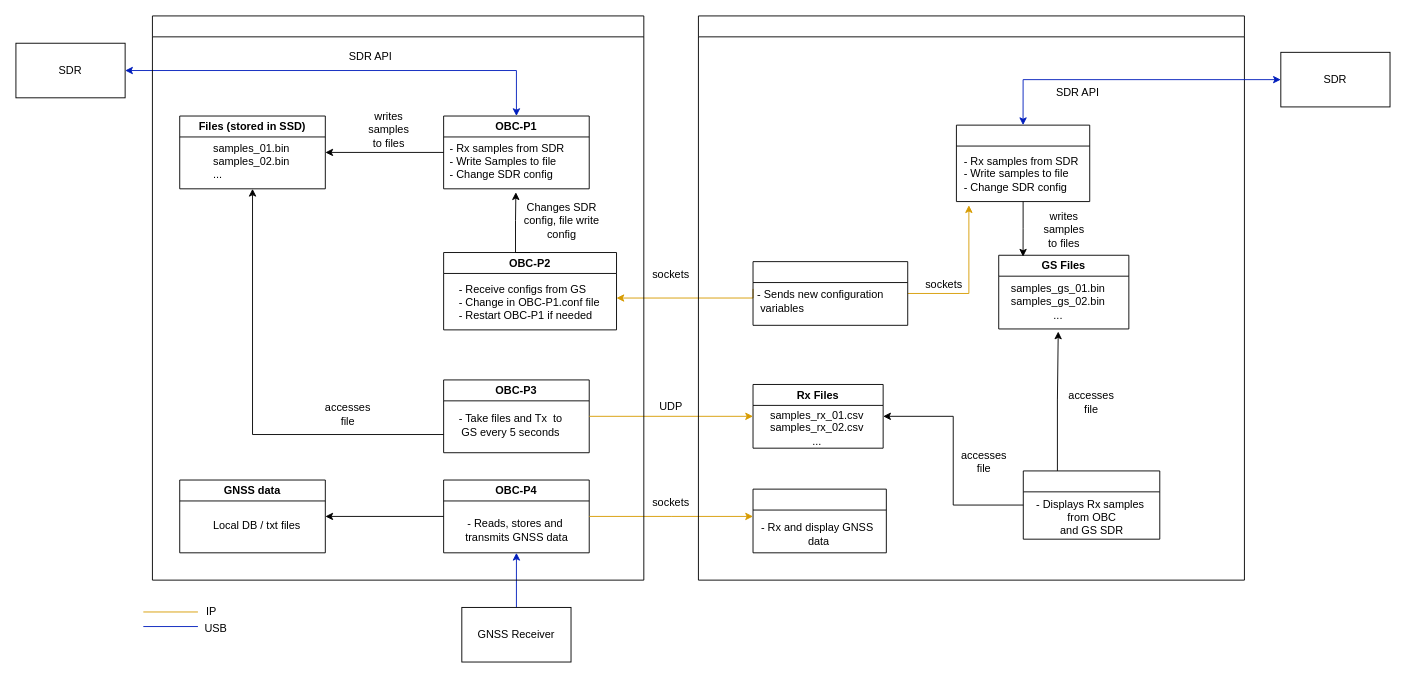
This 1406x678 diagram has some shape labels left out. Each missing label, with the box of its shape:
MCC (Ground Station Laptop with Ubuntu 22.04 LTS): (698, 15, 1244, 580)
MCC-P1: (752, 261, 908, 325)
MCC-P2: (1022, 470, 1160, 539)
MCC-P3: (956, 124, 1090, 202)
MCC-P4: (752, 488, 886, 553)
OBC (Raspberry Pi with Ubuntu 22.04 LTS): (152, 15, 644, 580)
